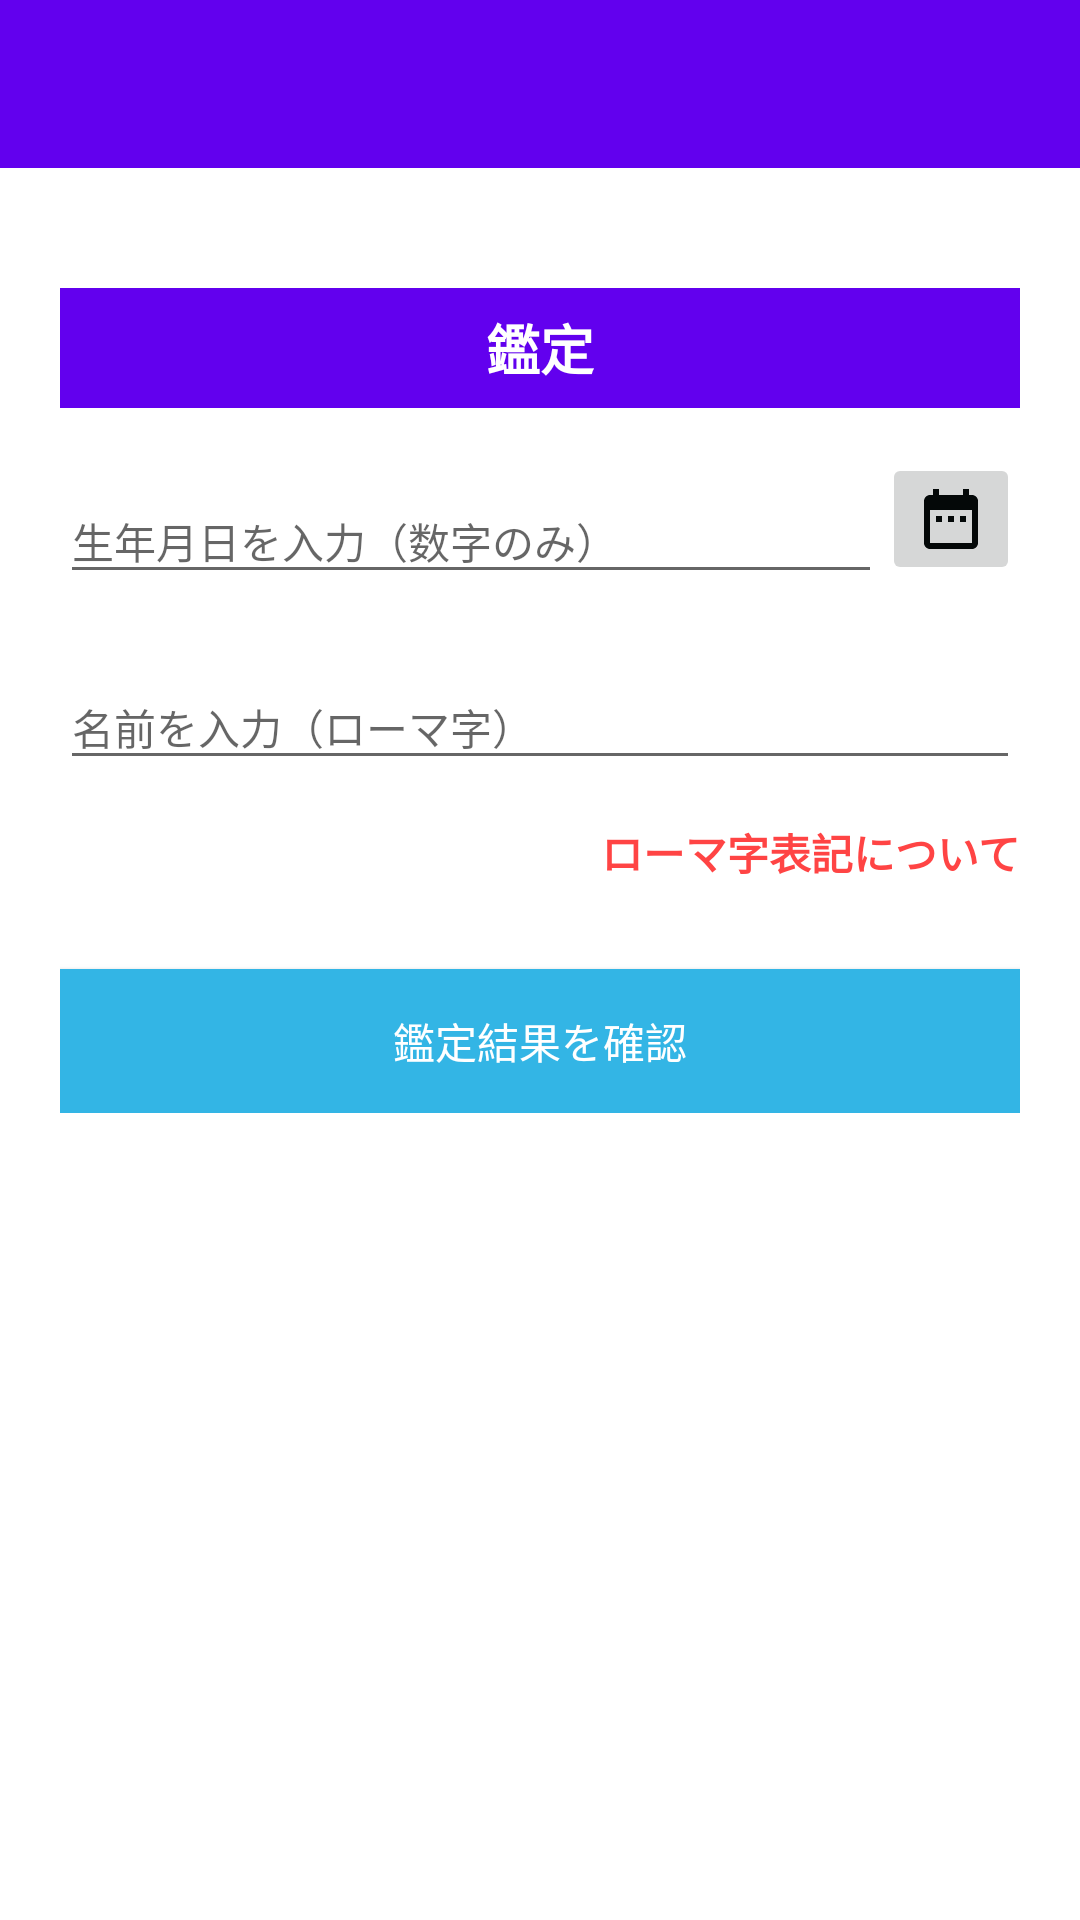

Screen size 1080 x 1920. Icon name, then its center in pixels as (x=x, y=y):
date range: (x=951, y=519)
